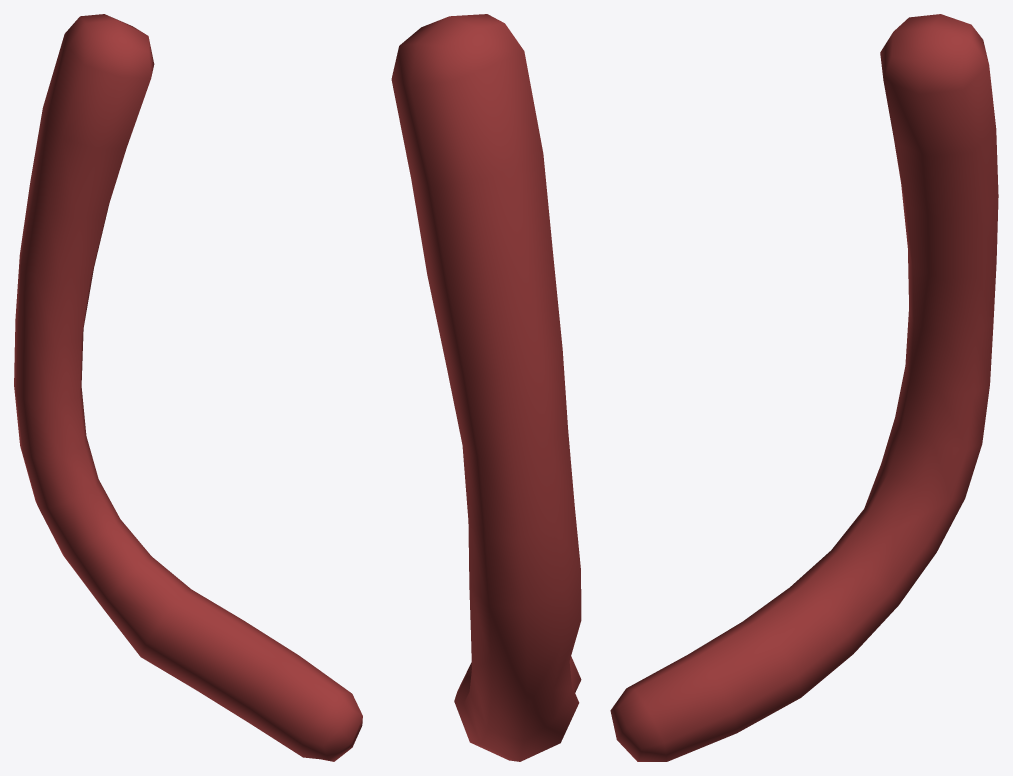
Rendered from tendon-sheath-of-flexor-digitorum-longus-l.glb.
3 renders of one model, left to right at view 1: azimuth 30°, elevation 25°; view 2: azimuth 150°, elevation 25°; view 3: azimuth 270°, elevation 25°, orthographic. The views are drawn at different scales.
Parts seen in each view (by area): view 1: Tendon sheath of flexor digitorum longus.l; view 2: Tendon sheath of flexor digitorum longus.l; view 3: Tendon sheath of flexor digitorum longus.l.
Part boxes in pixels (x1,y1,x2,y2): Tendon sheath of flexor digitorum longus.l: (14, 14, 362, 761); Tendon sheath of flexor digitorum longus.l: (391, 14, 581, 761); Tendon sheath of flexor digitorum longus.l: (610, 14, 998, 761).
Bounding box in the file's own units: 0.0211 × 0.0665 × 0.0336.
